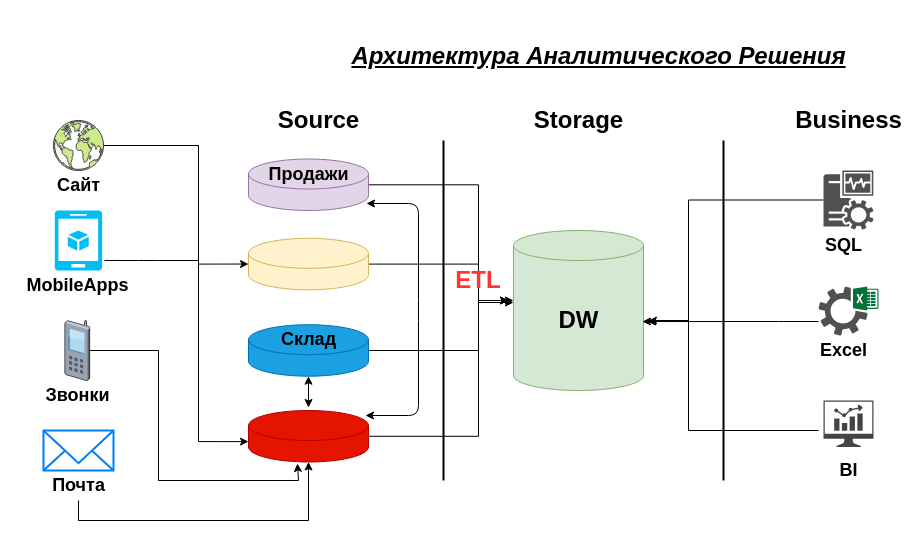
The diagram is 919 pixels wide and 546 high, and some of its shapes have lost their labels. Each missing label, with the centre of its shape:
"CRM" goes at (x=308, y=436).
"GA API" goes at (x=308, y=263).
